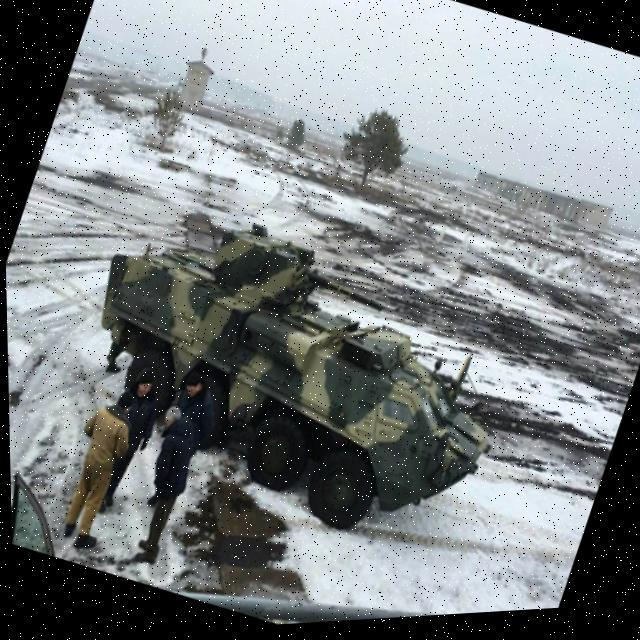MIL_APC: (25, 128, 566, 591)
